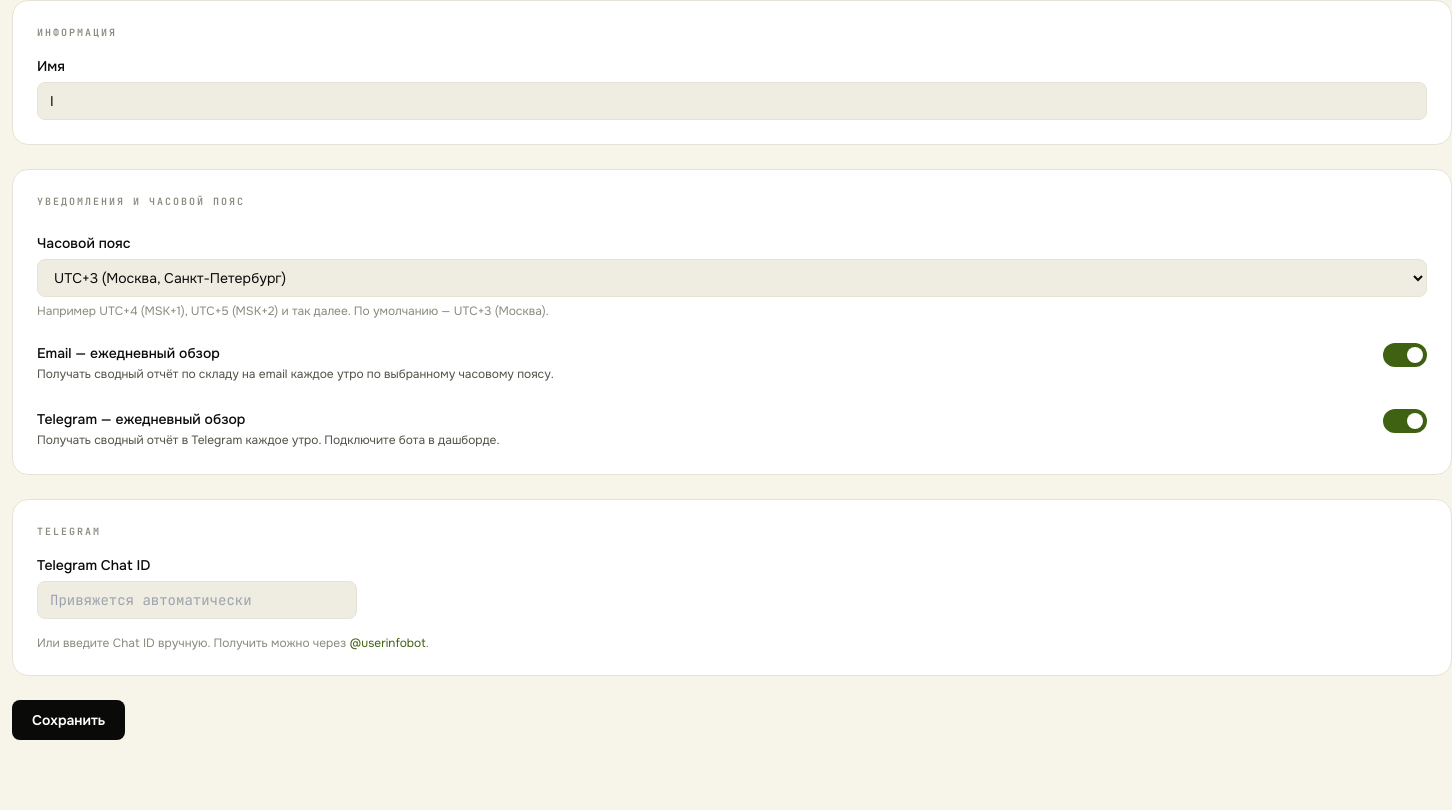
it: SettingsForm — handleSubmit extra › ошибка без JSON — statusText
This screenshot has width=1452, height=810.
Click the button "Сохранить" at coordinates (69, 720), box [12,700,125,740]
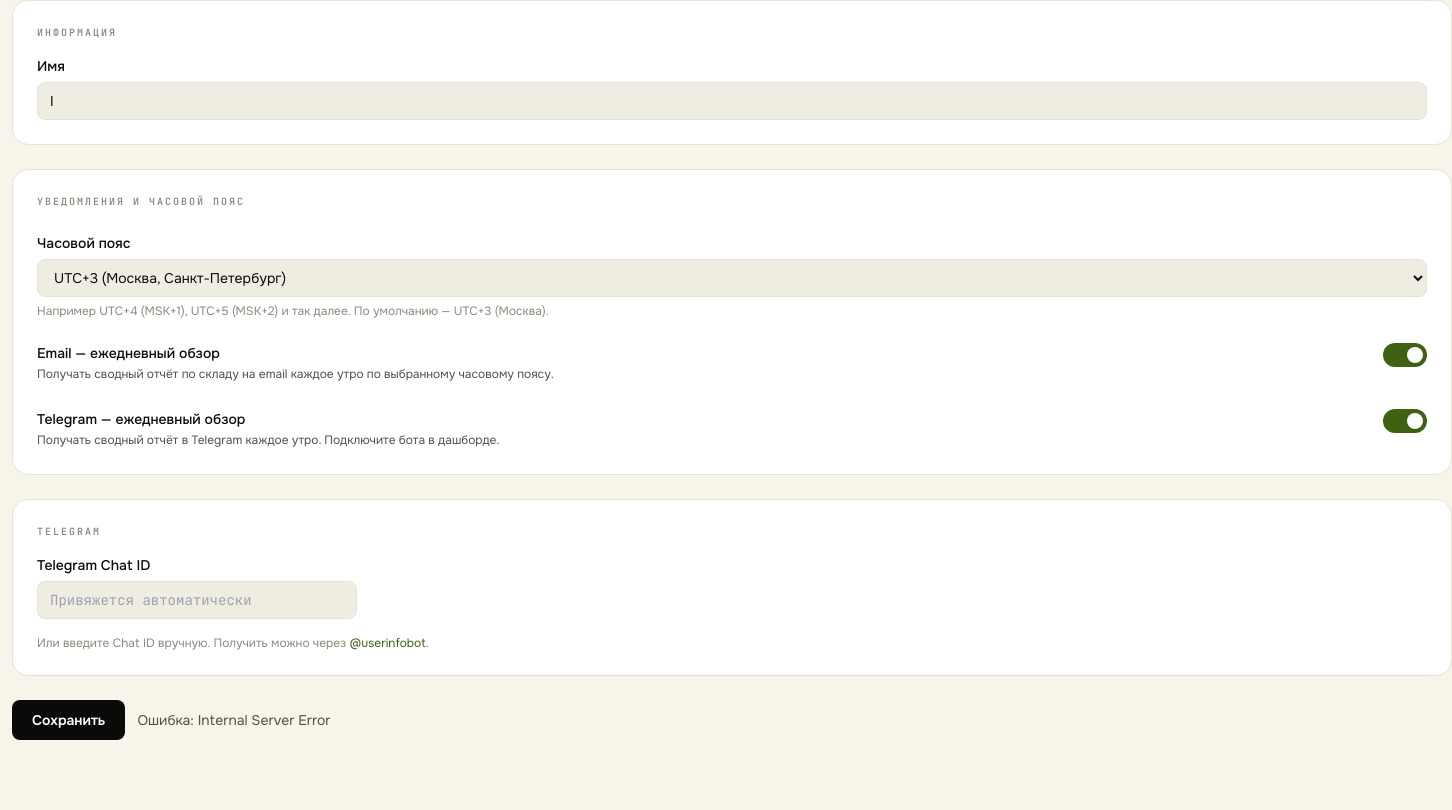
Now the text "Ошибка: Internal Server Error" is shown, box [137,710,331,730]
